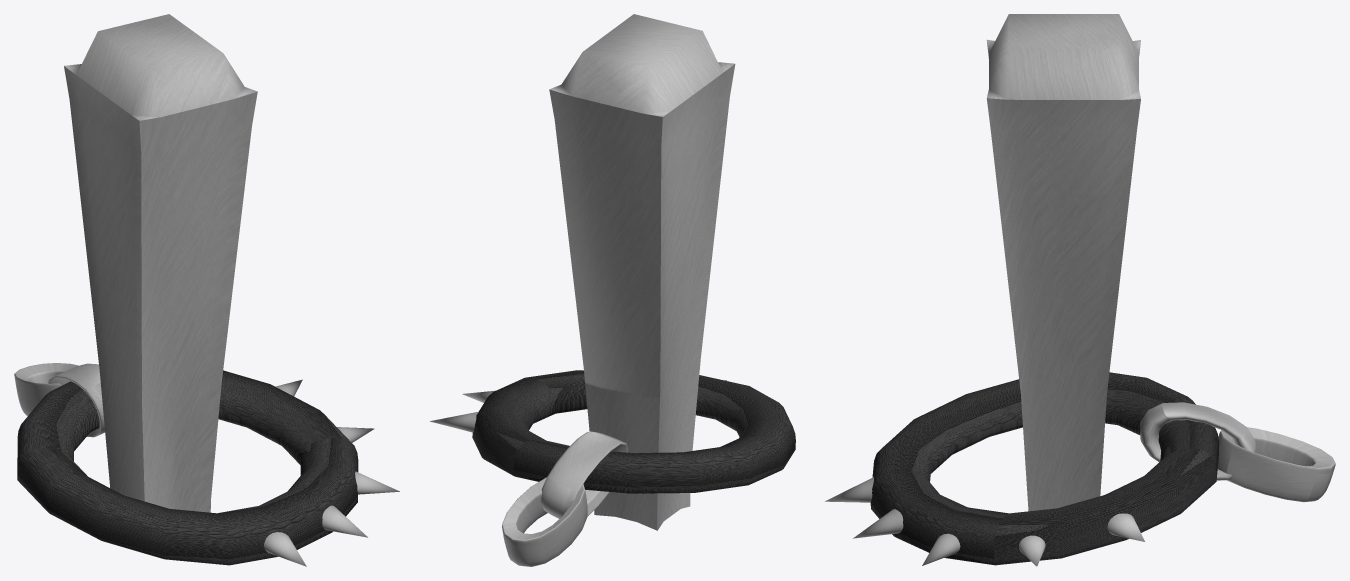
The model's file is collar.dae.
3 renders of one model, left to right at view 1: azimuth 30°, elevation 25°; view 2: azimuth 150°, elevation 25°; view 3: azimuth 270°, elevation 25°, orthographic. The views are drawn at different scales.
Visible parts, largest first — view 1: polySurface62; view 2: polySurface62; view 3: polySurface62.
Boxes of the visible parts, x1,y1,x2,y2 form: polySurface62: (14,14,399,566); polySurface62: (430,14,795,566); polySurface62: (825,14,1335,566).
Bounding box in the file's own units: 1.23 × 1.74 × 1.61.
